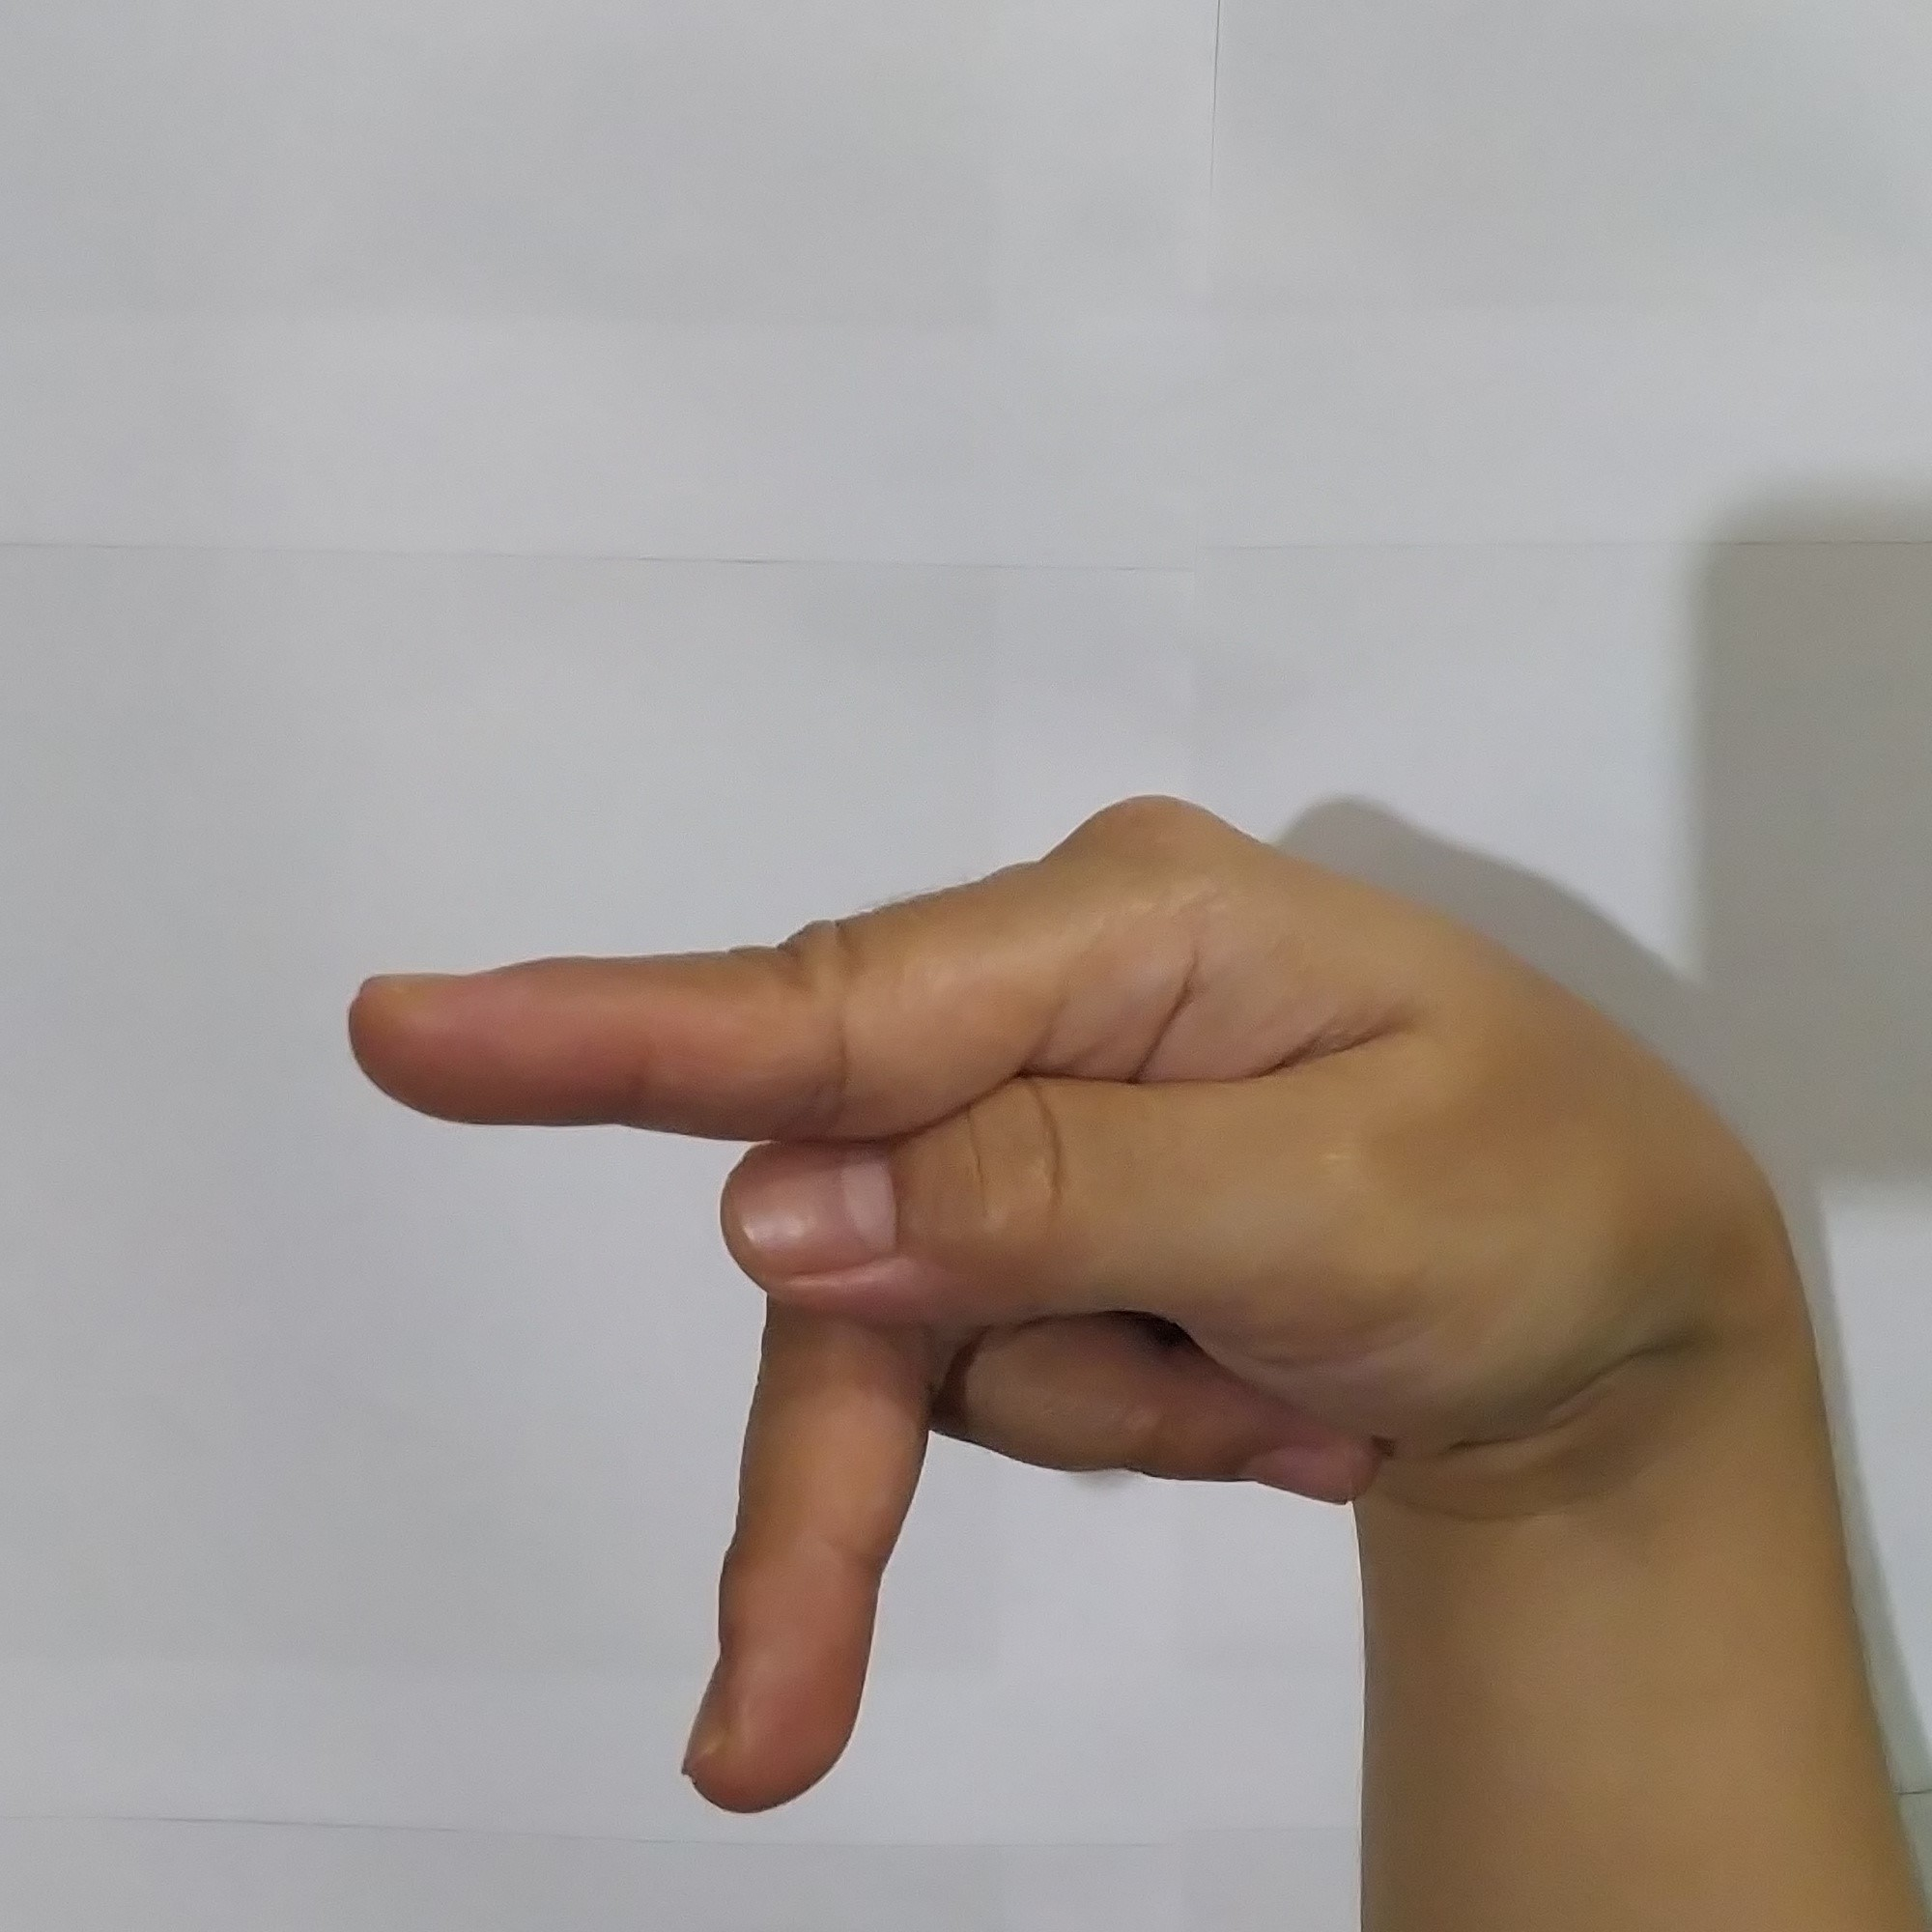P: (295, 773, 1890, 1842)
